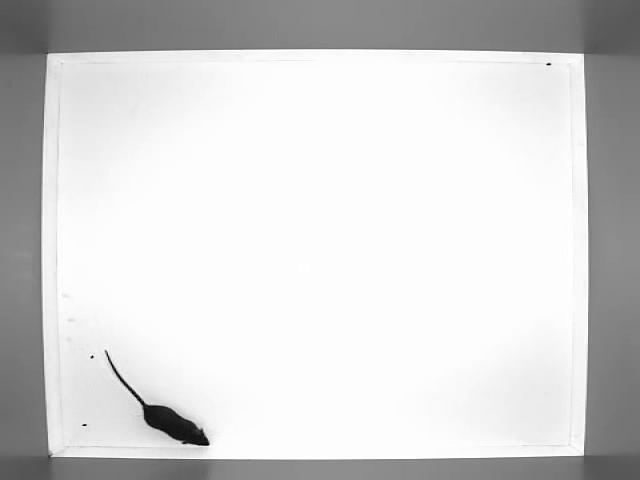Tikus: (98, 346, 219, 452)
